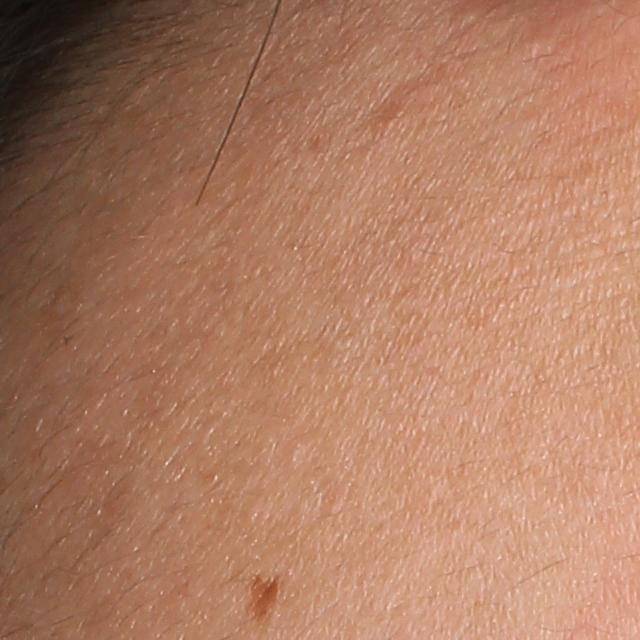nevus: (243, 573, 284, 626)
